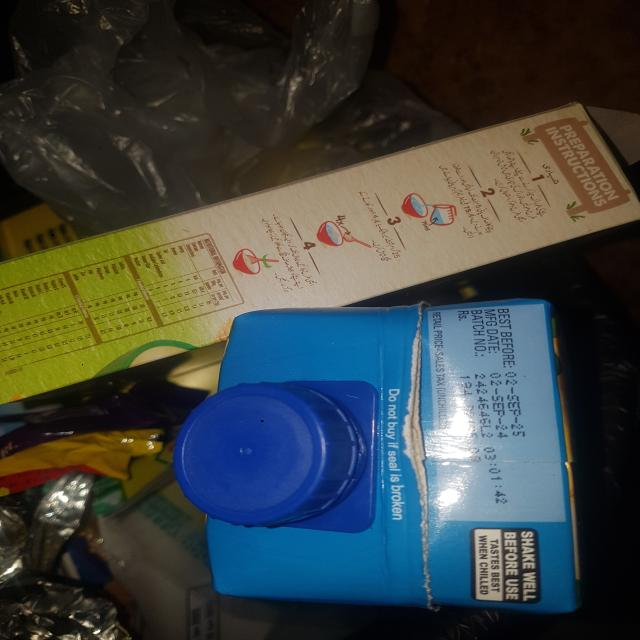electronic: (1, 102, 639, 404), (199, 298, 581, 614)
